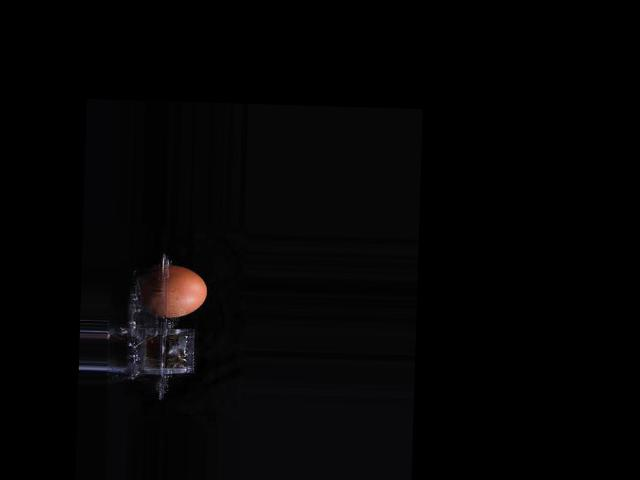egg: (136, 263, 207, 317)
